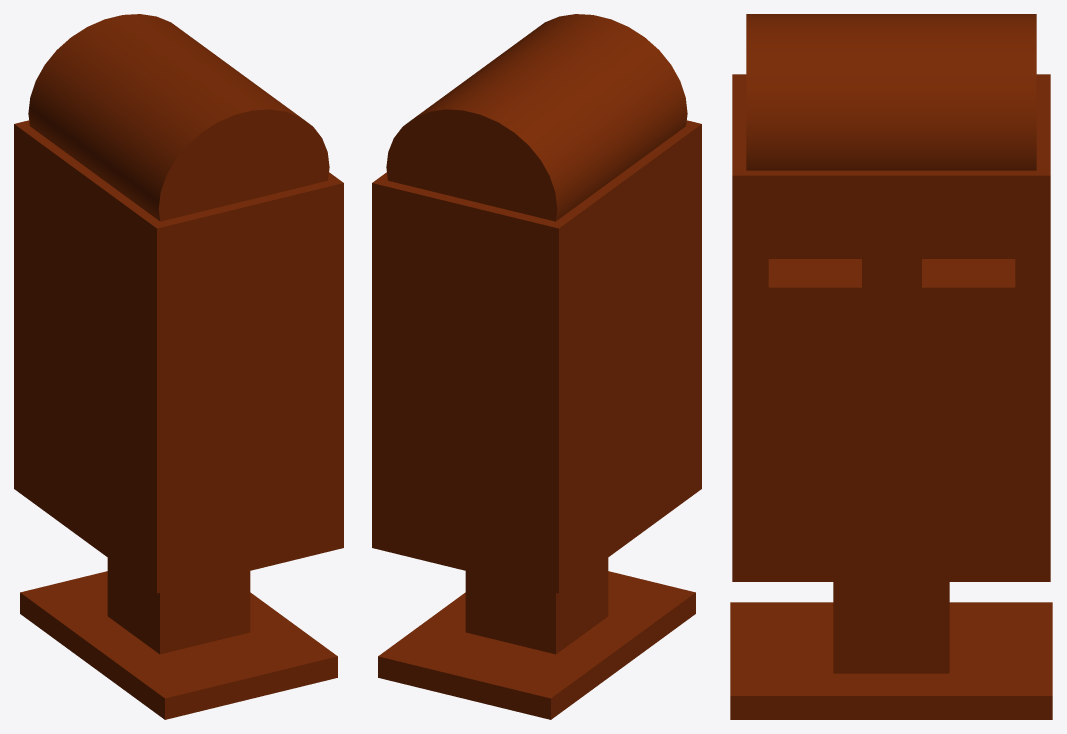
Rendered from MK_LETTERBOX.fbx.
3 views of the same model, side by side, from view 1: azimuth 30°, elevation 25°; view 2: azimuth 150°, elevation 25°; view 3: azimuth 270°, elevation 25° (orthographic). The views are drawn at different scales.
Parts seen in each view (by area): view 1: polySurface1, pCylinder1, pCube5, pCube4; view 2: polySurface1, pCylinder1, pCube5, pCube4; view 3: polySurface1, pCylinder1, pCube5, pCube4.
Boxes of the visible parts, x1=… form: polySurface1: x1=14, y1=120, x2=343, y2=593; pCylinder1: x1=28, y1=14, x2=329, y2=221; pCube5: x1=20, y1=571, x2=337, y2=719; pCube4: x1=107, y1=558, x2=250, y2=654; polySurface1: x1=372, y1=120, x2=701, y2=593; pCylinder1: x1=386, y1=14, x2=687, y2=221; pCube5: x1=378, y1=571, x2=695, y2=719; pCube4: x1=465, y1=558, x2=608, y2=654; polySurface1: x1=732, y1=74, x2=1050, y2=581; pCylinder1: x1=746, y1=14, x2=1036, y2=170; pCube5: x1=730, y1=602, x2=1052, y2=719; pCube4: x1=833, y1=582, x2=949, y2=673.
Size of the model in its own units: 2.57 by 7.64 by 3.45.
